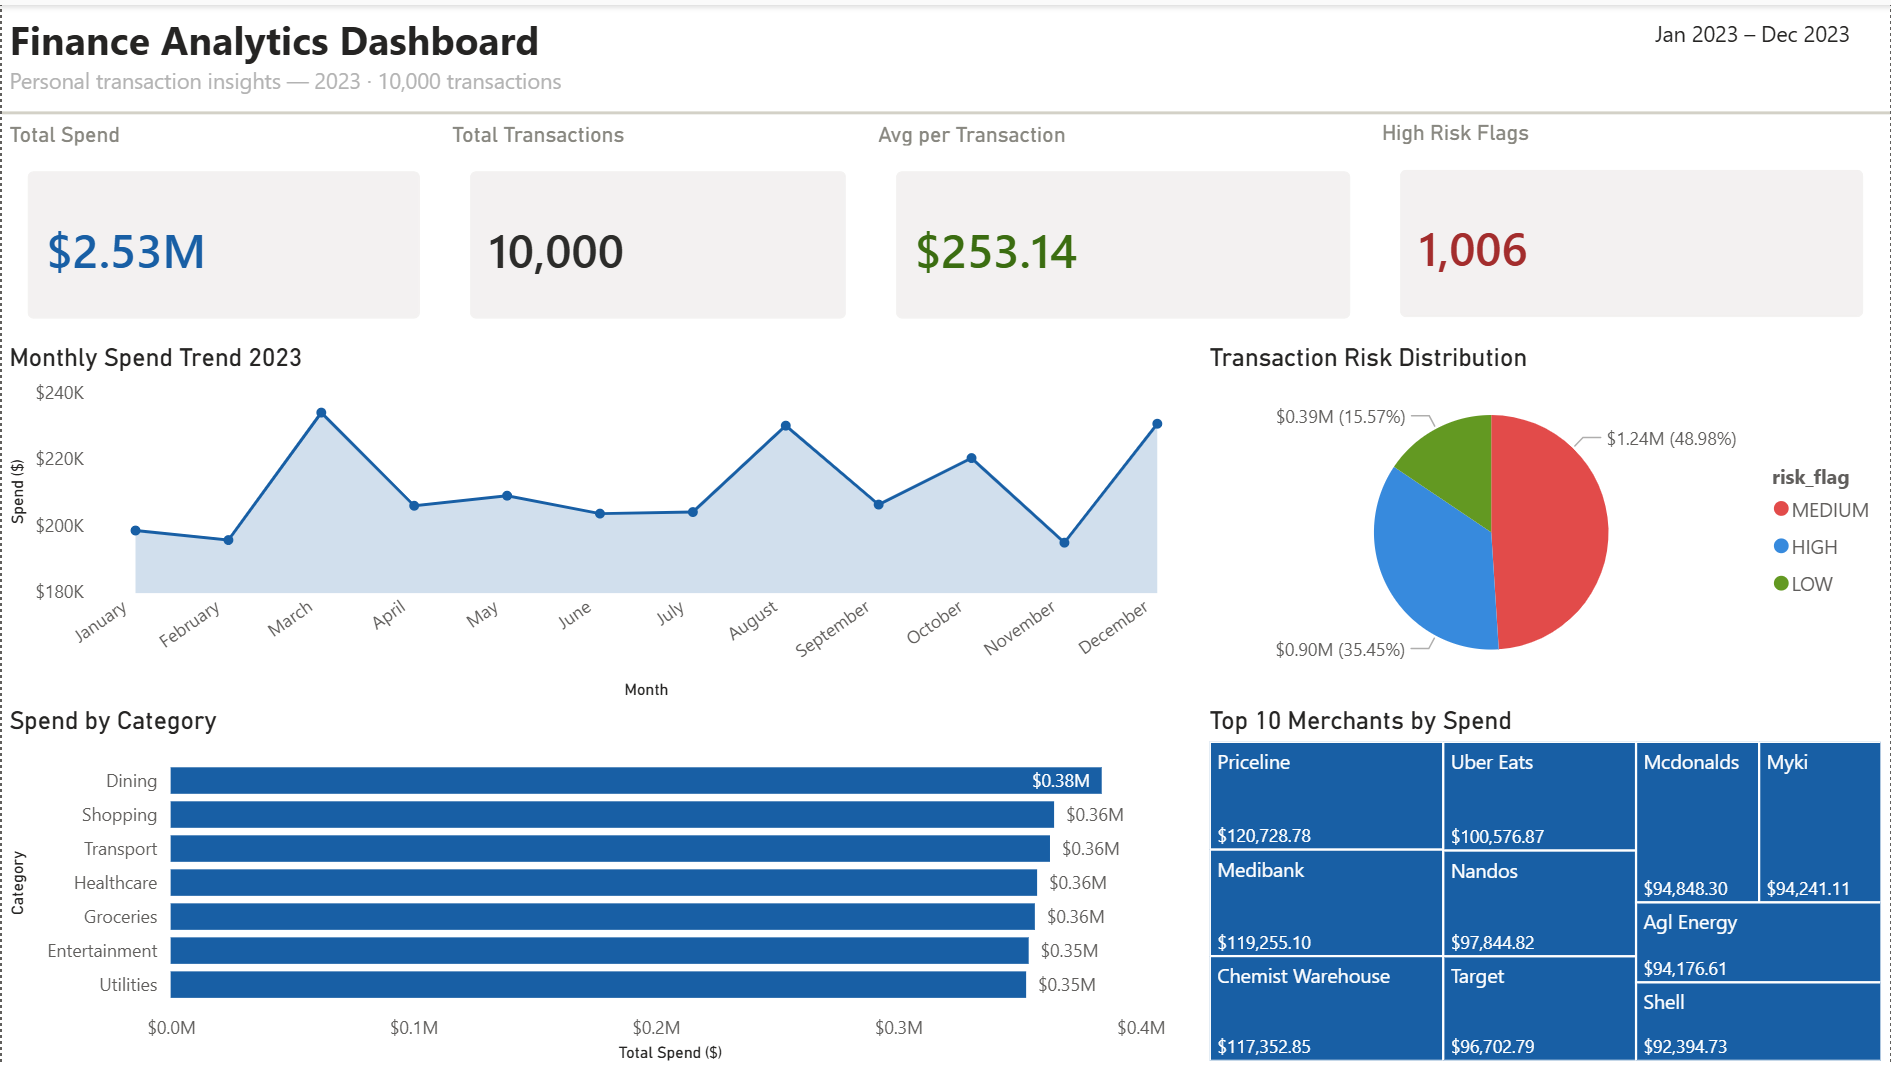

What the dashboard file says about the page in this screenshot:
{"tool":"powerbi","page":{"name":"Page 1","canvas":[1280,720],"ordinal":0},"visuals":[{"type":"lineChart","title":"Monthly Spend Trend 2023","fields":{"Y":["Sum(powerbi_transactions.amount)"],"Category":["powerbi_transactions.month_name"]},"box":[0,229.1,813.1,245.6],"z":0},{"type":"clusteredBarChart","title":"Spend by Category","fields":{"Category":["powerbi_transactions.category"],"Y":["Sum(powerbi_transactions.amount)"]},"box":[0,474.7,813.1,245.6],"z":1000},{"type":"pieChart","title":"Transaction Risk Distribution","fields":{"Category":["powerbi_transactions.risk_flag"],"Y":["Sum(powerbi_transactions.amount)"]},"box":[813.1,229.1,466.5,237.4],"z":2000},{"type":"textbox","box":[0,0,1116,67],"z":4000},{"type":"textbox","box":[1116,4,164,33],"z":5000},{"type":"shape","box":[0,67,1280,12],"z":6000},{"type":"cardVisual","title":"Total Spend","fields":{"Data":["powerbi_transactions.Total Spend"]},"box":[0,79,300,150],"z":7000},{"type":"cardVisual","title":"Total Transactions","fields":{"Data":["powerbi_transactions.Total Transactions"]},"box":[300,79,289,150],"z":8000},{"type":"cardVisual","title":"Avg per Transaction","fields":{"Data":["powerbi_transactions.Avg Transaction"]},"box":[589,79,342,150],"z":9000},{"type":"cardVisual","title":"High Risk Flags","fields":{"Data":["powerbi_transactions.High Risk Count"]},"box":[930.6,78.7,349,150.4],"z":10000},{"type":"treemap","title":"Top 10 Merchants by Spend","fields":{"Group":["powerbi_transactions.merchant"],"Values":["Sum(powerbi_transactions.amount)"]},"box":[813.1,474.7,465.3,245.6],"z":10001}]}

Visuals, with their boxes in screenshot pixels (x1, y1, x2, y2), scaled from the page's 1280x720 canvas onto the 1891x1066 screenshot:
"Monthly Spend Trend 2023" lineChart: pyautogui.locateOnScreen(0, 339, 1201, 703)
"Spend by Category" clusteredBarChart: pyautogui.locateOnScreen(0, 703, 1201, 1065)
"Transaction Risk Distribution" pieChart: pyautogui.locateOnScreen(1201, 339, 1890, 691)
textbox: pyautogui.locateOnScreen(0, 0, 1649, 99)
textbox: pyautogui.locateOnScreen(1649, 6, 1890, 55)
shape: pyautogui.locateOnScreen(0, 99, 1890, 117)
"Total Spend" cardVisual: pyautogui.locateOnScreen(0, 117, 443, 339)
"Total Transactions" cardVisual: pyautogui.locateOnScreen(443, 117, 870, 339)
"Avg per Transaction" cardVisual: pyautogui.locateOnScreen(870, 117, 1375, 339)
"High Risk Flags" cardVisual: pyautogui.locateOnScreen(1375, 117, 1890, 339)
"Top 10 Merchants by Spend" treemap: pyautogui.locateOnScreen(1201, 703, 1889, 1065)
